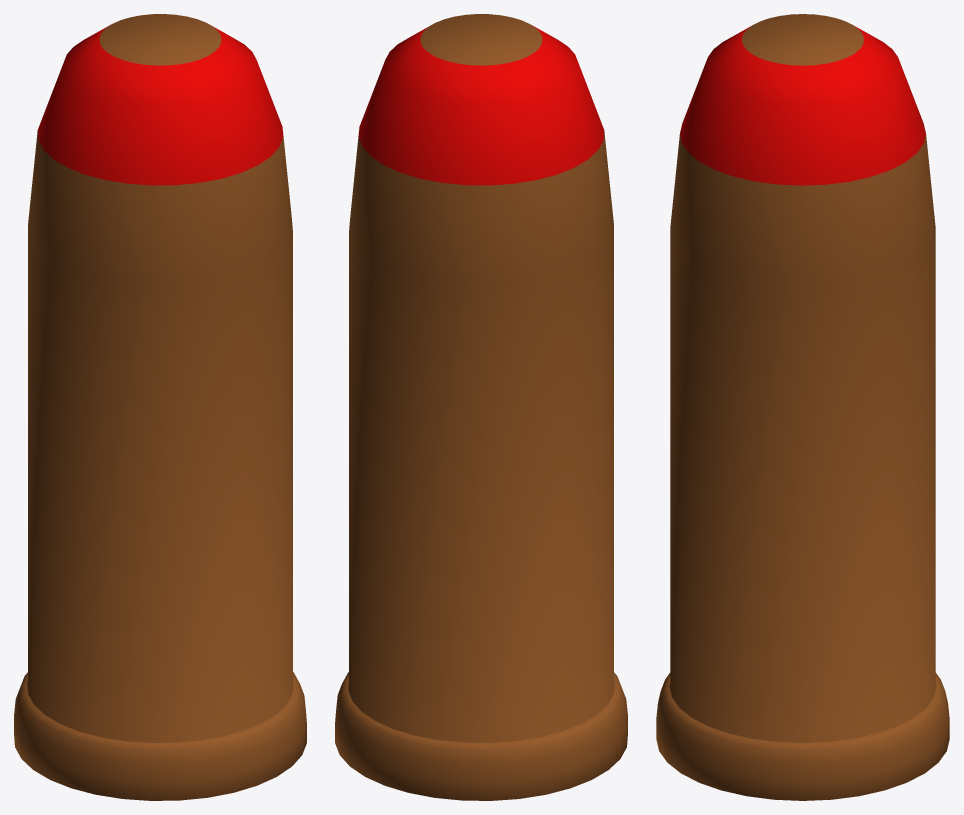
Rendered from bullet.fbx.
3 views of the same model, side by side, from view 1: azimuth 30°, elevation 25°; view 2: azimuth 150°, elevation 25°; view 3: azimuth 270°, elevation 25° (orthographic).
Visible parts, largest first — view 1: Cylinder; view 2: Cylinder; view 3: Cylinder.
Part boxes in pixels (box(x1,y1,x2,y2)): Cylinder: box(14, 14, 306, 800); Cylinder: box(335, 14, 627, 800); Cylinder: box(656, 14, 949, 800).
Size of the model in its own units: 26.74 by 70.3 by 26.74.
